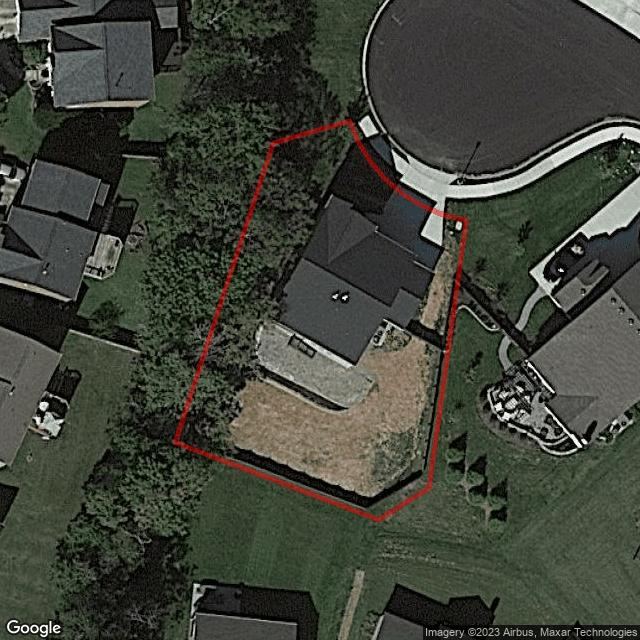Driveway: (421, 212, 444, 244)
Extra Driveway: (435, 198, 444, 209)
House: (265, 195, 448, 367)
Sidewalk: (230, 329, 442, 497), (421, 250, 456, 329)
